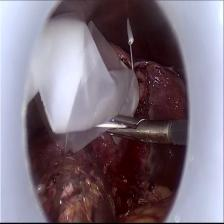Grasper: (107, 113, 171, 148)
Specimen Bag: (27, 11, 139, 152)
